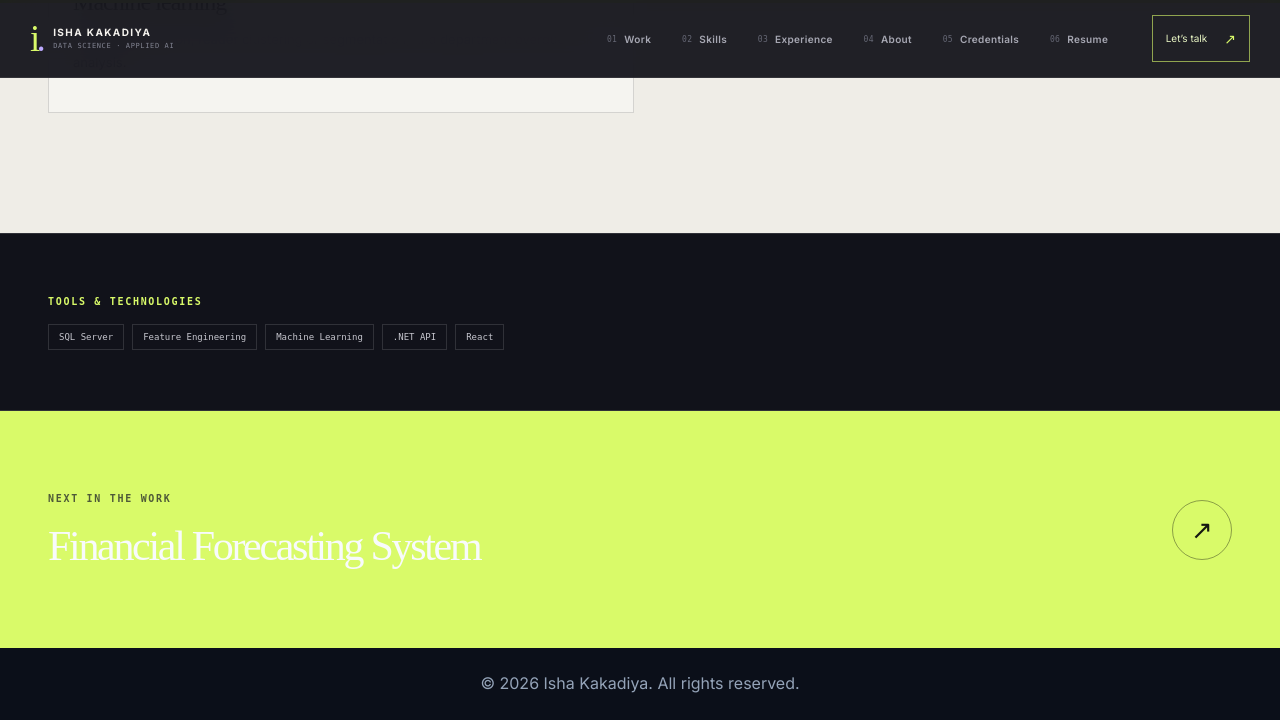
Scenario: portfolio experience redesign › loads case studies directly and supports back/forward navigation
(page scrolled)
Click the link with class "case-next-link".
click(1202, 530)  # box [1172,500,1232,560]
(page scrolled)
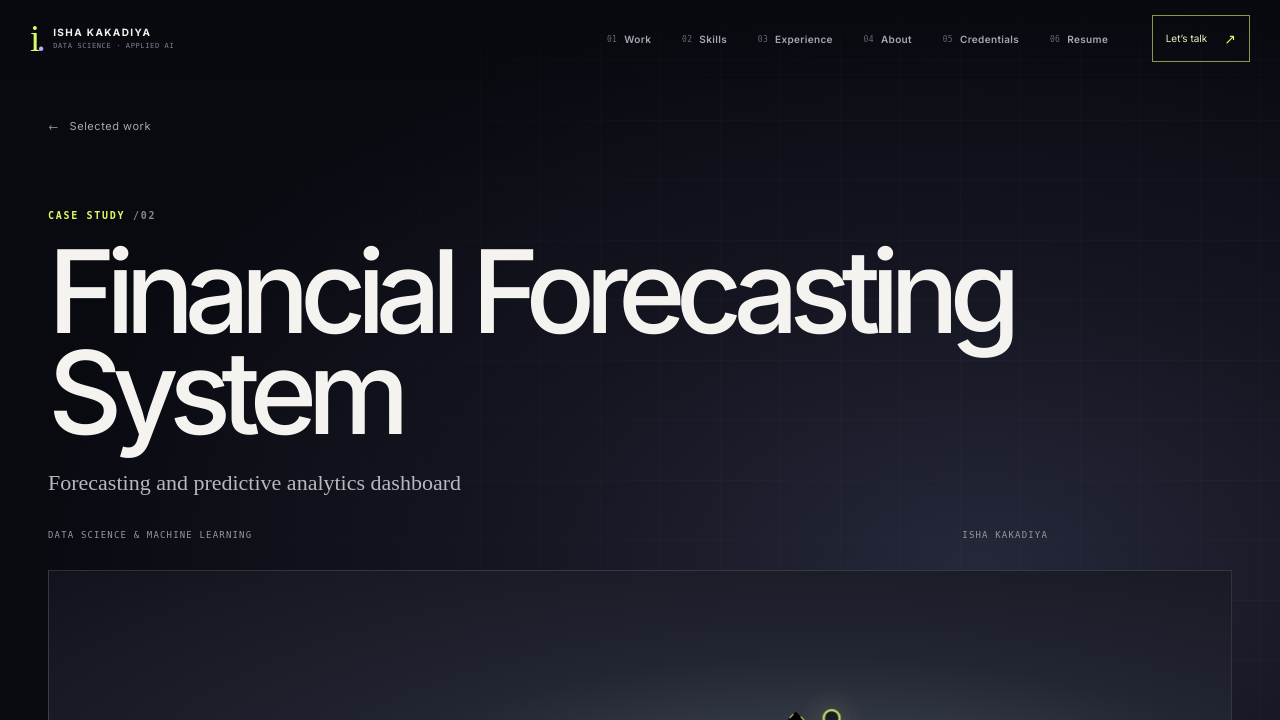
Expected: the heading "Financial Forecasting System" is shown, [48,241,1048,443]
Go "back"
(page scrolled)
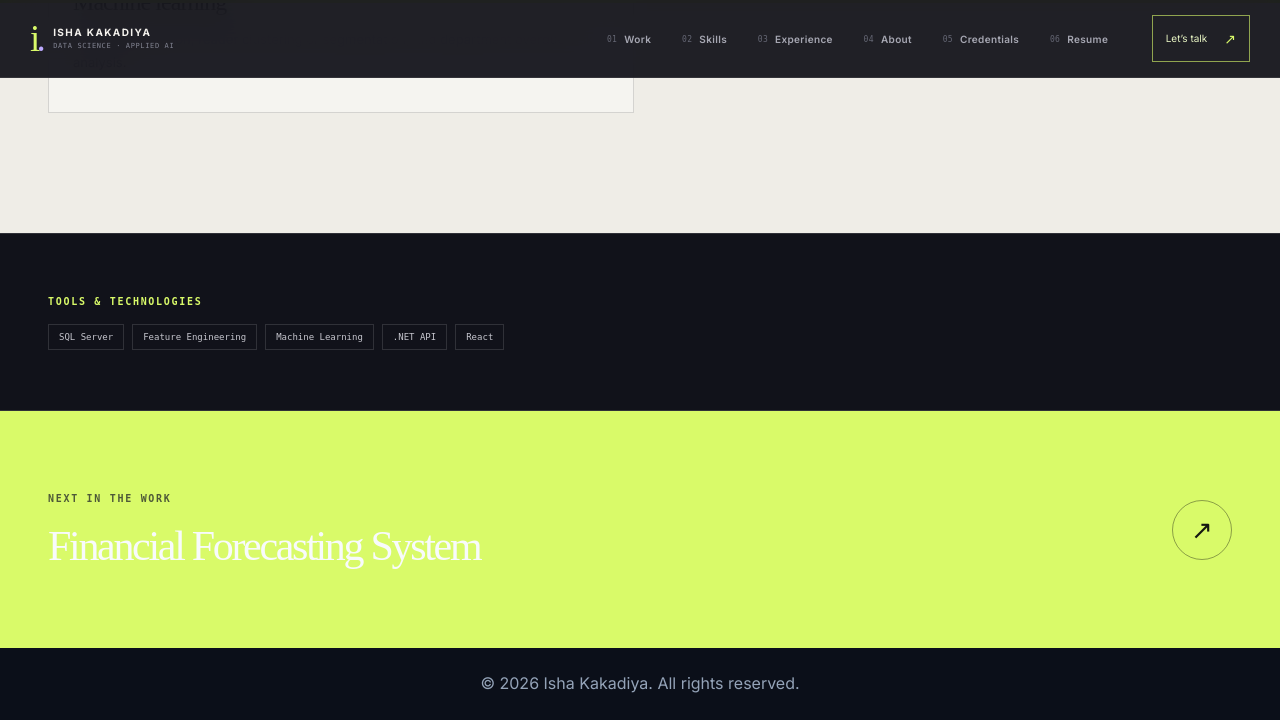
Go "forward"
(page scrolled)
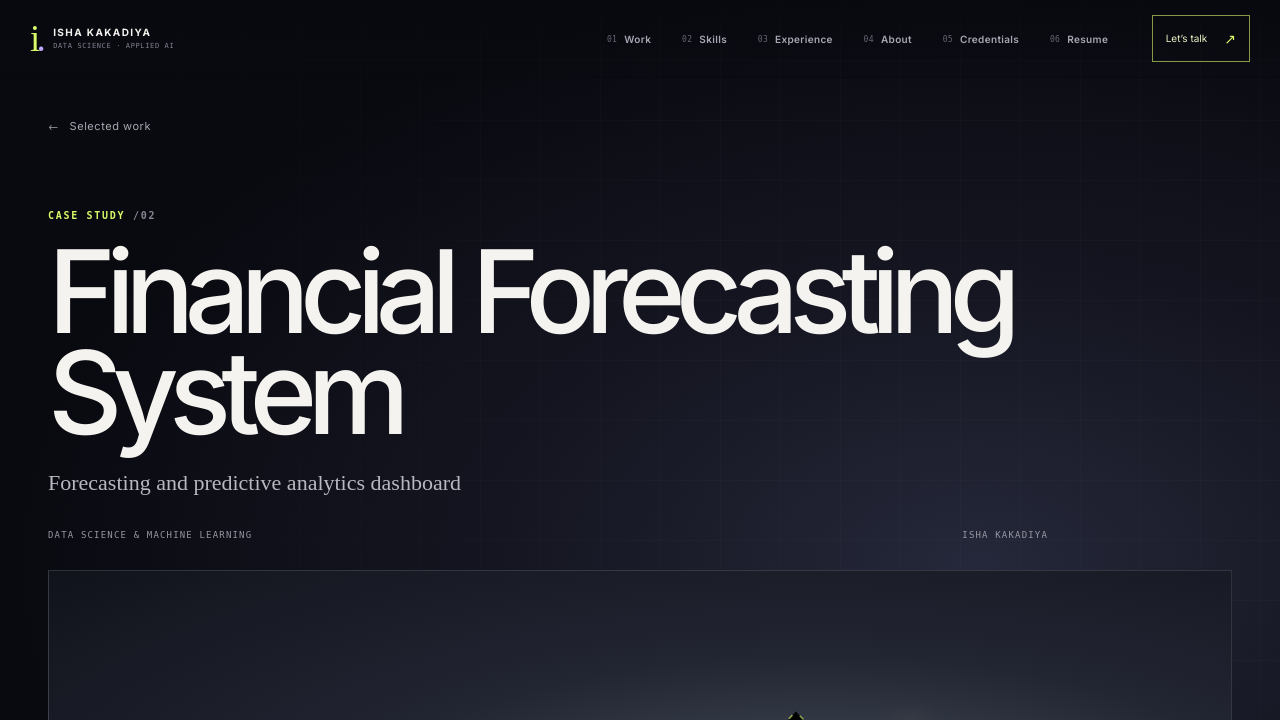
Expected: the heading "Financial Forecasting System" is shown, [48,241,1048,443]
